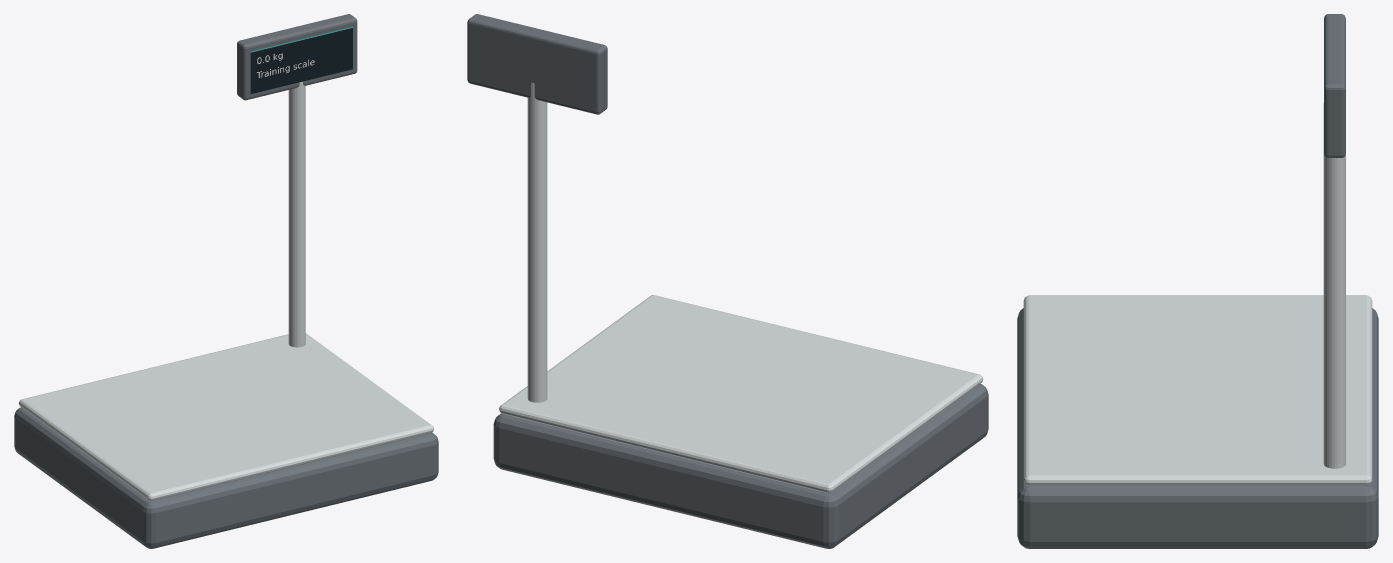
Rendered from baggage-scale.glb.
The picture shows the model from 3 angles, left to right: view 1: azimuth 30°, elevation 25°; view 2: azimuth 150°, elevation 25°; view 3: azimuth 270°, elevation 25°; orthographic projection. The views are drawn at different scales.
Parts seen in each view (by area): view 1: WeighingPlatform, ScaleBase, DisplayPost, WeightScreen, DisplayBody; view 2: WeighingPlatform, ScaleBase, DisplayBody, DisplayPost; view 3: WeighingPlatform, ScaleBase, DisplayPost, DisplayBody.
Boxes of the visible parts, x1,y1,x2,y2 form: WeighingPlatform: (18,333,433,501); ScaleBase: (14,407,438,548); DisplayPost: (288,81,305,347); WeightScreen: (250,26,352,93); DisplayBody: (237,14,357,100); WeighingPlatform: (499,295,983,493); ScaleBase: (493,384,988,548); DisplayBody: (467,14,607,114); DisplayPost: (527,82,547,402); WeighingPlatform: (1023,295,1372,485); ScaleBase: (1017,308,1378,548); DisplayPost: (1323,103,1345,468); DisplayBody: (1324,14,1345,157).
Size of the model in its own units: 0.8 by 0.865 by 0.58.
4 materials, 1 textured.
